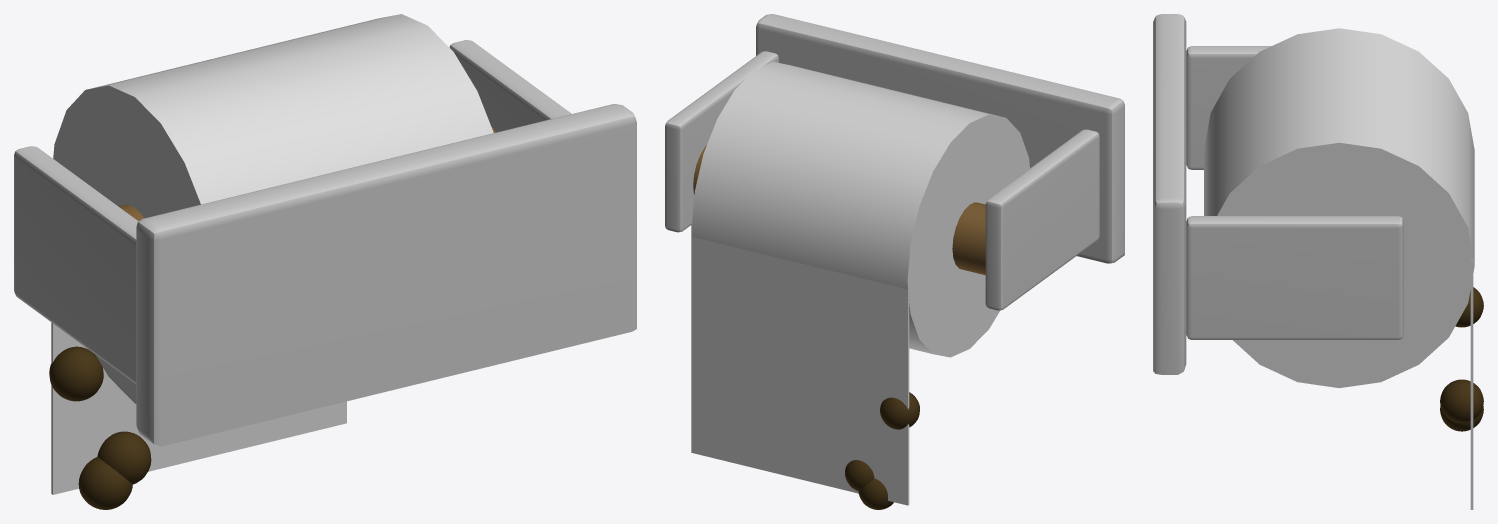
File: tp roll.fbx
3 renders of one model, left to right at view 1: azimuth 30°, elevation 25°; view 2: azimuth 150°, elevation 25°; view 3: azimuth 270°, elevation 25°, orthographic. The views are drawn at different scales.
Visible parts, largest first — view 1: polySurface431; view 2: polySurface431; view 3: polySurface431.
Boxes of the visible parts, x1,y1,x2,y2 form: polySurface431: (14, 14, 636, 509); polySurface431: (665, 14, 1124, 509); polySurface431: (1153, 14, 1483, 509).
Size of the model in its own units: 0.9174 by 0.8581 by 0.6719.
